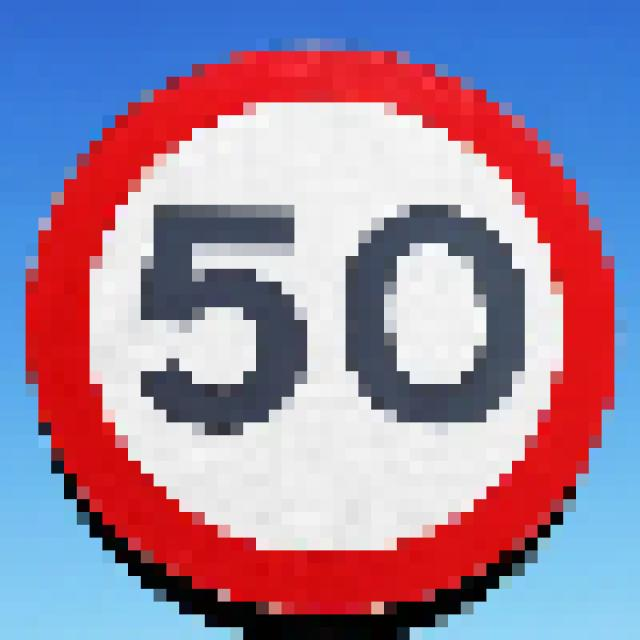Limite-50: (23, 49, 617, 612)
